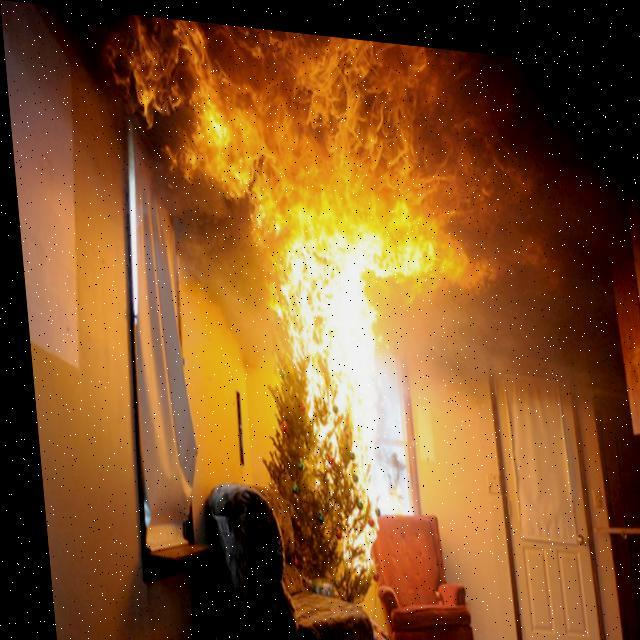Fire: (250, 132, 462, 552)
